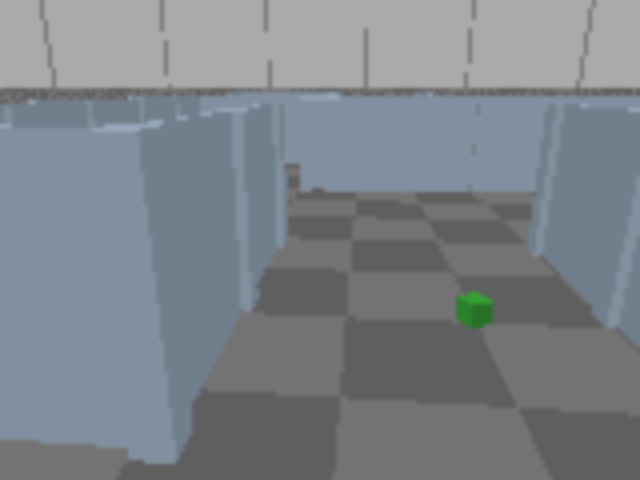puck: (456, 292, 493, 329)
